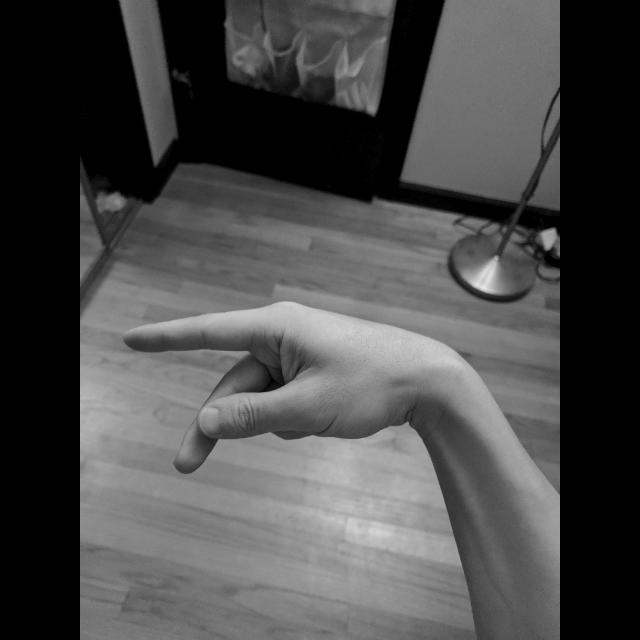P: (118, 296, 418, 482)
